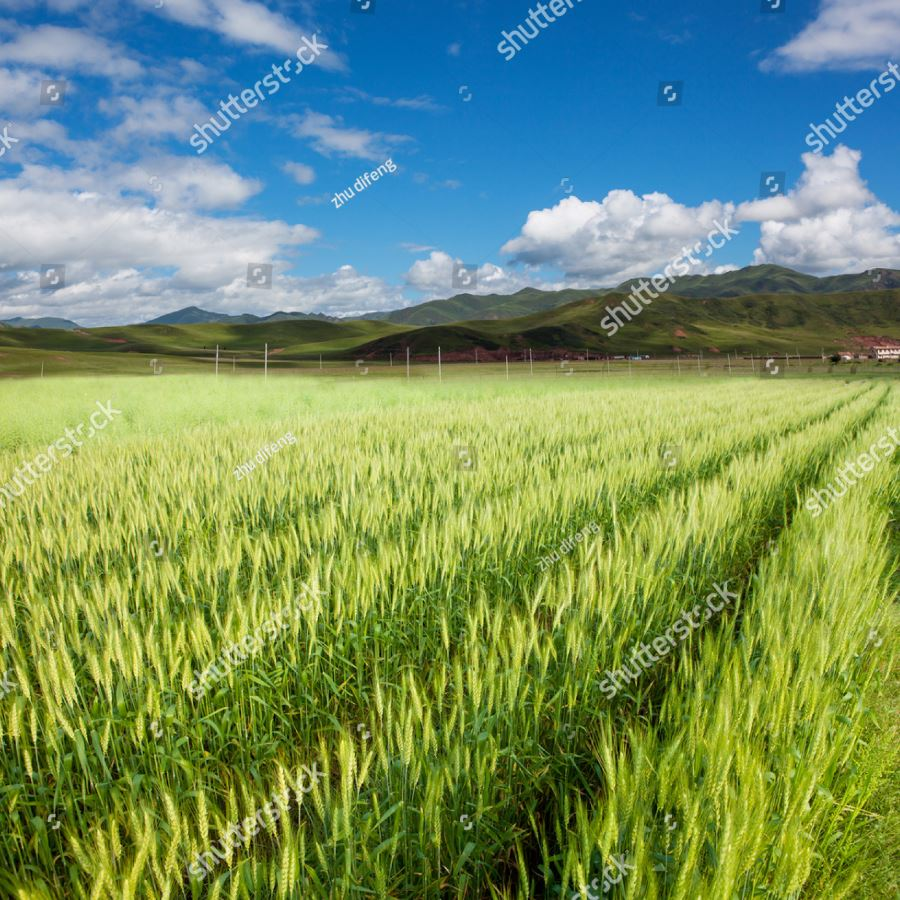Wheat: (113, 521, 494, 857)
